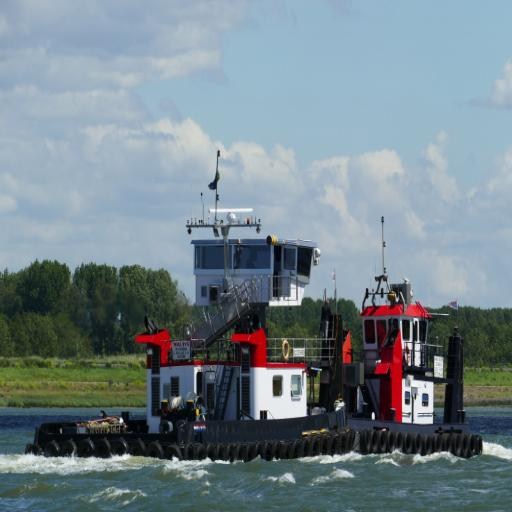tugboat: (22, 205, 360, 475), (325, 272, 492, 470)
